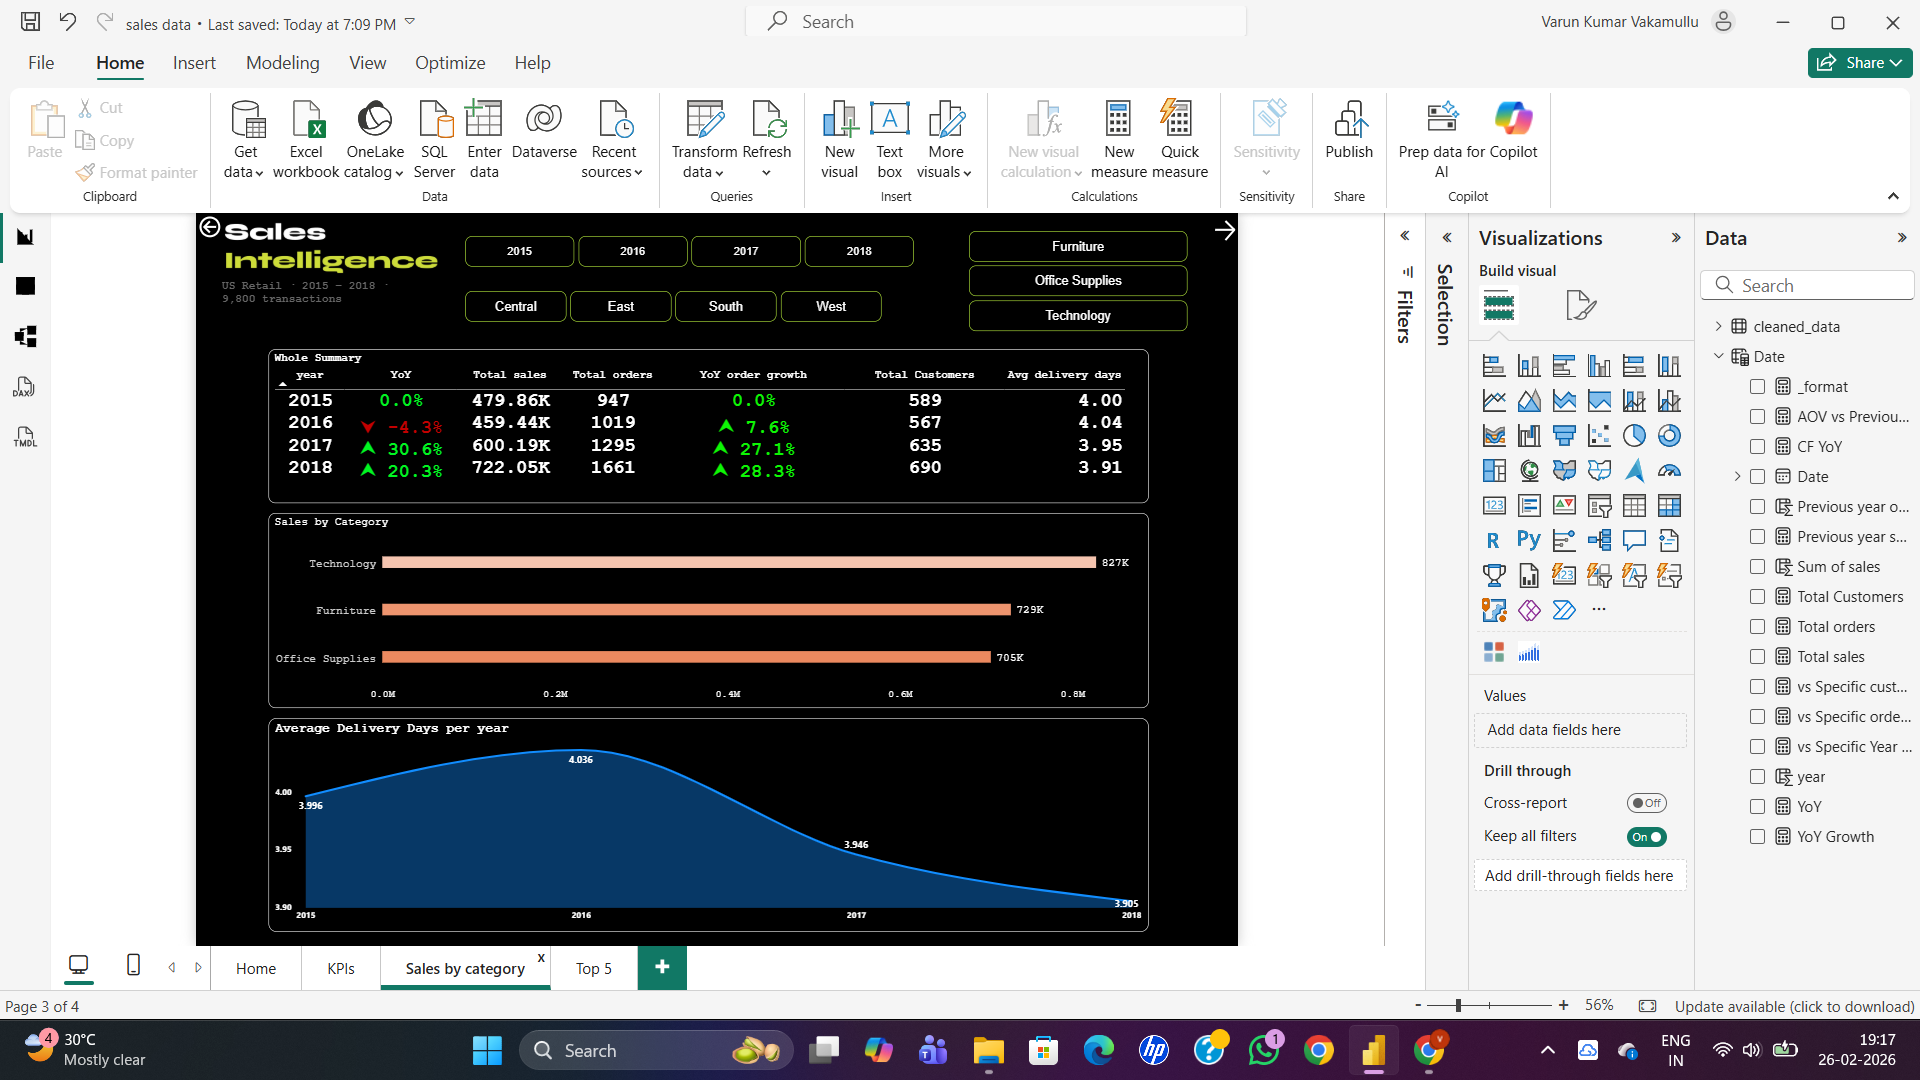

The dashboard page shown, as its layout file describes it:
{"tool":"powerbi","page":{"name":"Sales by category","canvas":[1500,1056],"ordinal":2},"visuals":[{"type":"clusteredBarChart","title":"Sales by Category","fields":{"Y":["Date.Total sales"],"Category":["cleaned_data.Category"]},"box":[104.4,431.9,1266.9,280.7],"z":0},{"type":"tableEx","title":"Whole Summary","fields":{"Values":["Date.year","Date.YoY","Date.Total sales","Date.Total orders","cleaned_data.YoY order growth","Date.Total Customers","cleaned_data.Avg delivery days"]},"box":[104.4,196.2,1266.9,221.4],"z":1000},{"type":"image","box":[31.9,0,320.2,96.9],"z":2000},{"type":"textbox","box":[31.9,89.6,292,90.8],"z":3000},{"type":"ChicletSlicer1448559807354","fields":{"Category":["Date.year"]},"box":[379.7,25.2,662.3,79.2],"z":4000},{"type":"ChicletSlicer1448559807354","fields":{"Category":["cleaned_data.Category"]},"box":[1105,18,331.1,165.6],"z":5000},{"type":"lineChart","title":"Average Delivery Days per year","fields":{"Category":["Date.year"],"Y":["cleaned_data.Avg delivery days"]},"box":[104.4,727,1266.9,307.7],"z":6000},{"type":"ChicletSlicer1448559807354","fields":{"Category":["cleaned_data.Region"]},"box":[379.7,104.4,615.5,75.6],"z":7000},{"type":"actionButton","box":[1461.3,5.4,39.6,39.6],"z":7001},{"type":"actionButton","box":[0,0,100,40],"z":7002}]}

Visuals, with their boxes on the page's 1500x1056 design canvas (x1, y1, x2, y2). These are canvas units, not pixel positions in the 1920x1080 screenshot, which may show the page scaled, cropped or inside an application window:
"Sales by Category" clusteredBarChart: {"left": 104, "top": 432, "right": 1371, "bottom": 713}
"Whole Summary" tableEx: {"left": 104, "top": 196, "right": 1371, "bottom": 418}
image: {"left": 32, "top": 0, "right": 352, "bottom": 97}
textbox: {"left": 32, "top": 90, "right": 324, "bottom": 180}
ChicletSlicer1448559807354 - Date.year: {"left": 380, "top": 25, "right": 1042, "bottom": 104}
ChicletSlicer1448559807354 - cleaned_data.Category: {"left": 1105, "top": 18, "right": 1436, "bottom": 184}
"Average Delivery Days per year" lineChart: {"left": 104, "top": 727, "right": 1371, "bottom": 1035}
ChicletSlicer1448559807354 - cleaned_data.Region: {"left": 380, "top": 104, "right": 995, "bottom": 180}
actionButton: {"left": 1461, "top": 5, "right": 1501, "bottom": 45}
actionButton: {"left": 0, "top": 0, "right": 100, "bottom": 40}
